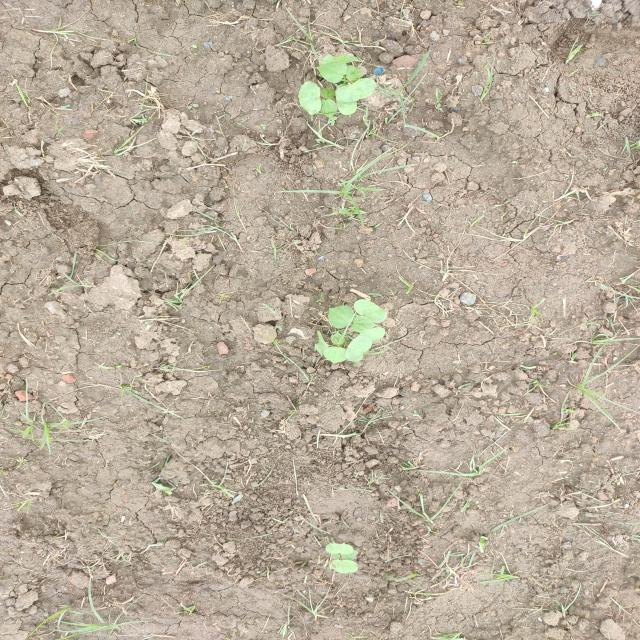seedling_s4: (335, 78, 376, 102), (354, 299, 387, 323), (298, 81, 321, 115), (315, 61, 347, 83), (346, 335, 372, 362), (329, 306, 354, 328), (351, 316, 378, 333), (336, 94, 357, 115), (359, 327, 385, 343), (329, 560, 358, 574), (324, 347, 347, 364), (315, 331, 331, 355), (321, 55, 358, 65), (325, 543, 354, 554), (321, 99, 337, 118), (331, 550, 359, 560), (346, 66, 363, 82), (331, 331, 345, 345), (321, 87, 335, 99)
